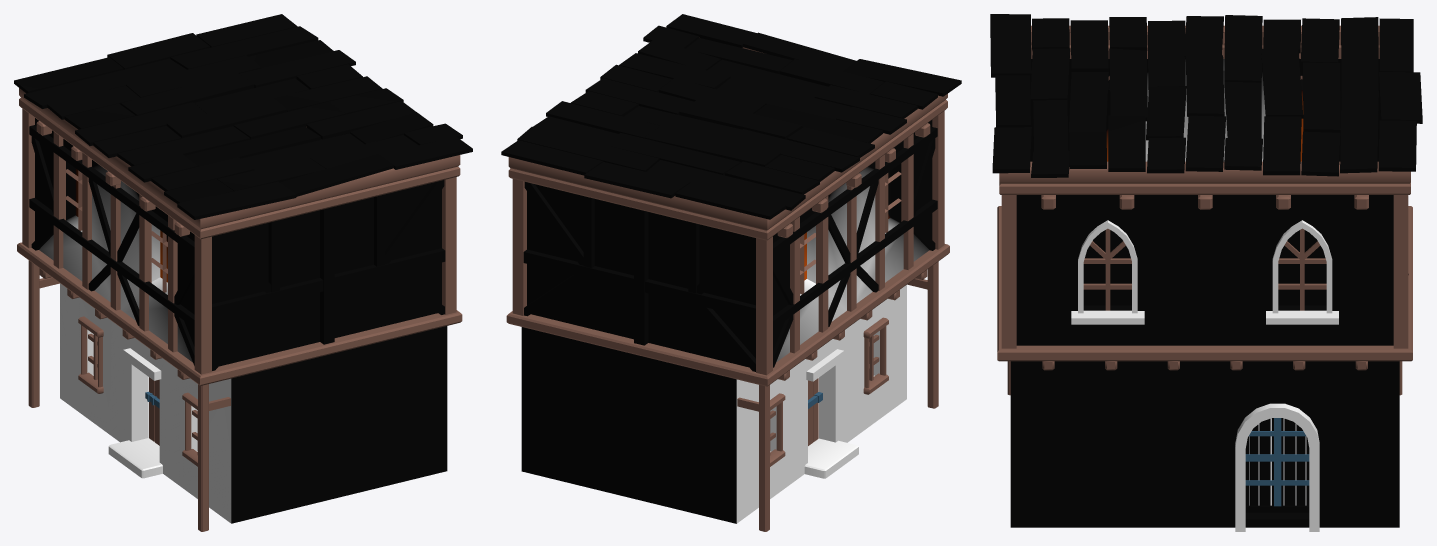
Rendered from civilian_house_37_c.FBX.
3 renders of one model, left to right at view 1: azimuth 30°, elevation 25°; view 2: azimuth 150°, elevation 25°; view 3: azimuth 270°, elevation 25°, orthographic. The views are drawn at different scales.
Visible parts, largest first — view 1: civilian_house_37_c_LOD0; view 2: civilian_house_37_c_LOD0; view 3: civilian_house_37_c_LOD0.
Part boxes in pixels (box(x1,y1,x2,y2)): civilian_house_37_c_LOD0: box(14, 14, 472, 531); civilian_house_37_c_LOD0: box(501, 14, 961, 531); civilian_house_37_c_LOD0: box(990, 14, 1422, 531).
Size of what is drawn, in the model's own units: 679 by 734 by 778.
